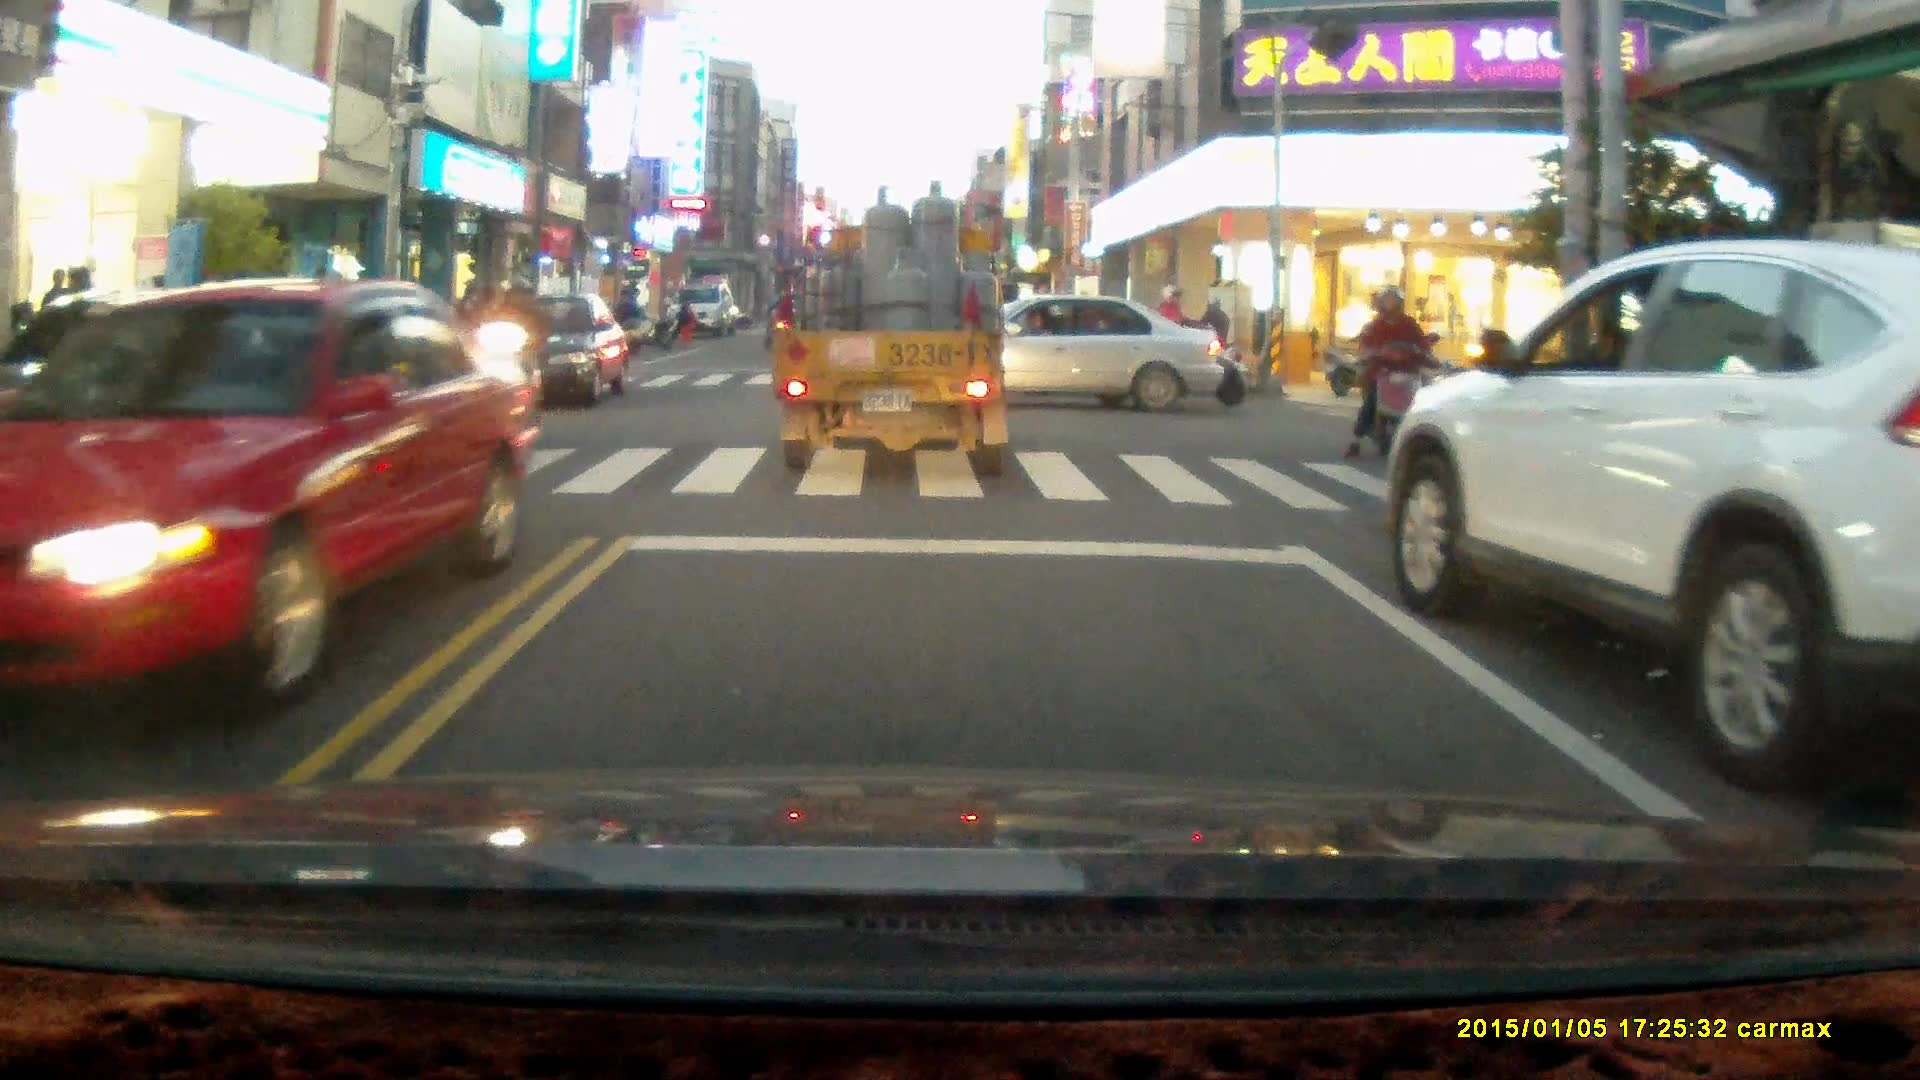pedestrian: (617, 285, 644, 348)
rider: (1340, 283, 1446, 477), (470, 278, 551, 463), (1155, 292, 1249, 398)
vehicle: (1378, 238, 1920, 809), (1, 275, 546, 754), (775, 189, 1020, 474), (883, 292, 1231, 415), (667, 284, 736, 336)
